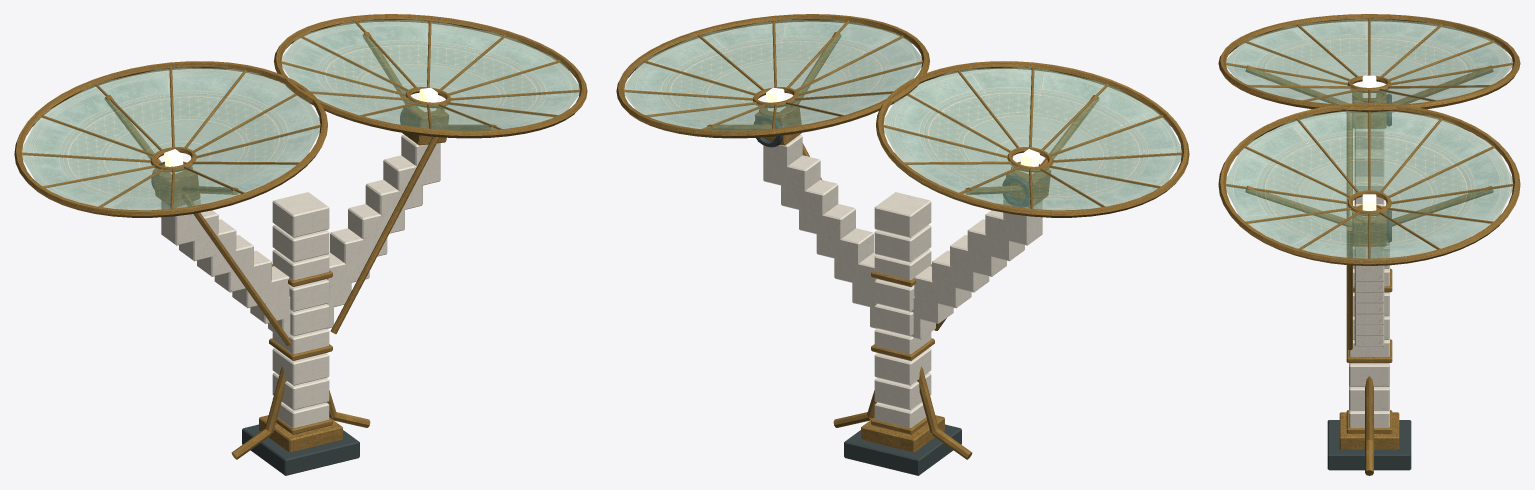
Rendered from choir.glb.
3 views of the same model, side by side, from view 1: azimuth 30°, elevation 25°; view 2: azimuth 150°, elevation 25°; view 3: azimuth 270°, elevation 25° (orthographic). The views are drawn at different scales.
Visible parts, largest first — view 1: CanopyPetal_L_Choir_Glass, ChoirCanopy_Choir_Ceramic, CanopyPetal_R_Choir_Glass, CanopyPetal_L_Choir_Brass, CanopyPetal_R_Choir_Brass, ChoirCanopy_Choir_Brass, ChoirCanopy_Choir_Dark; view 2: CanopyPetal_L_Choir_Glass, ChoirCanopy_Choir_Ceramic, CanopyPetal_R_Choir_Glass, CanopyPetal_L_Choir_Brass, CanopyPetal_R_Choir_Brass, ChoirCanopy_Choir_Brass, ChoirCanopy_Choir_Dark; view 3: CanopyPetal_R_Choir_Glass, CanopyPetal_L_Choir_Glass, CanopyPetal_R_Choir_Brass, CanopyPetal_L_Choir_Brass, ChoirCanopy_Choir_Ceramic, ChoirCanopy_Choir_Brass, ChoirCanopy_Choir_Dark.
Boxes of the visible parts, x1,y1,x2,y2 form: CanopyPetal_L_Choir_Glass: (22,67,320,210); ChoirCanopy_Choir_Ceramic: (161,134,440,428); CanopyPetal_R_Choir_Glass: (281,20,579,130); CanopyPetal_L_Choir_Brass: (14,61,327,217); CanopyPetal_R_Choir_Brass: (274,14,587,145); ChoirCanopy_Choir_Brass: (180,136,439,459); ChoirCanopy_Choir_Dark: (242,424,359,475); CanopyPetal_L_Choir_Glass: (883,67,1181,210); ChoirCanopy_Choir_Ceramic: (763,134,1042,428); CanopyPetal_R_Choir_Glass: (624,20,922,130); CanopyPetal_L_Choir_Brass: (876,61,1189,217); CanopyPetal_R_Choir_Brass: (616,14,929,145); ChoirCanopy_Choir_Brass: (802,143,972,459); ChoirCanopy_Choir_Dark: (844,424,961,475); CanopyPetal_R_Choir_Glass: (1226,110,1512,258); CanopyPetal_L_Choir_Glass: (1226,19,1512,104); CanopyPetal_R_Choir_Brass: (1218,103,1520,265); CanopyPetal_L_Choir_Brass: (1218,14,1520,128); ChoirCanopy_Choir_Ceramic: (1349,129,1389,427); ChoirCanopy_Choir_Brass: (1339,112,1399,475); ChoirCanopy_Choir_Dark: (1327,420,1411,470).
Bounding box in the file's own units: 11.95 × 7.82 × 6.15.
5 materials, 3 textured.
